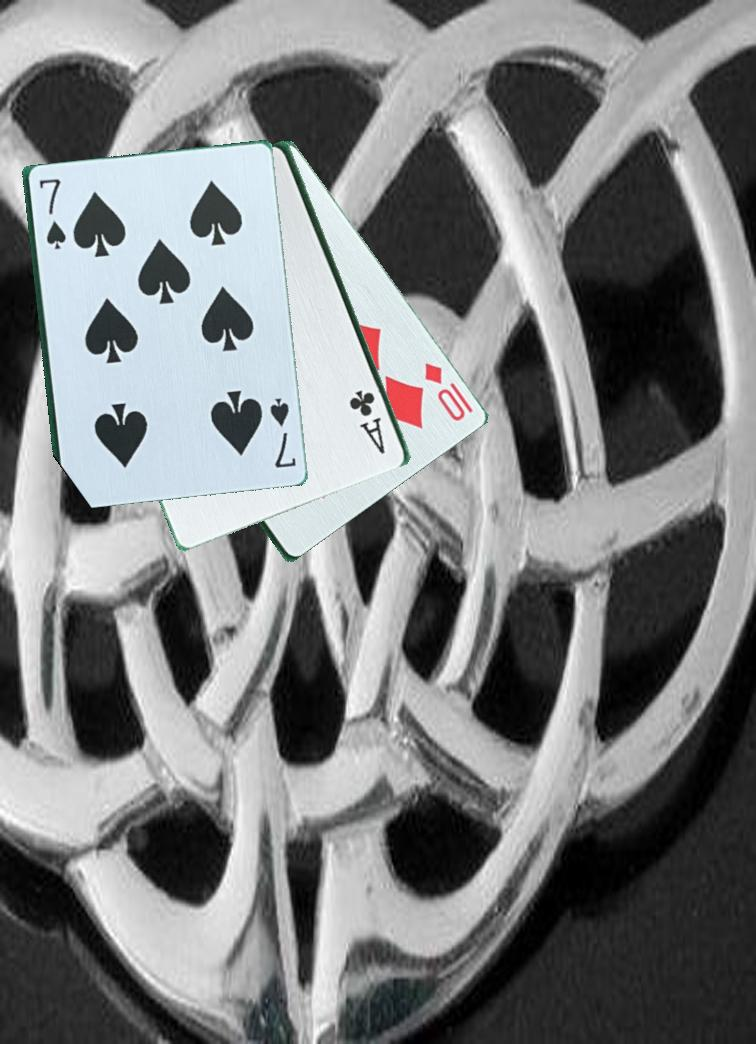7s: (266, 395, 300, 472), (36, 175, 68, 253)
ac: (348, 386, 389, 458)
td: (421, 359, 470, 425)
